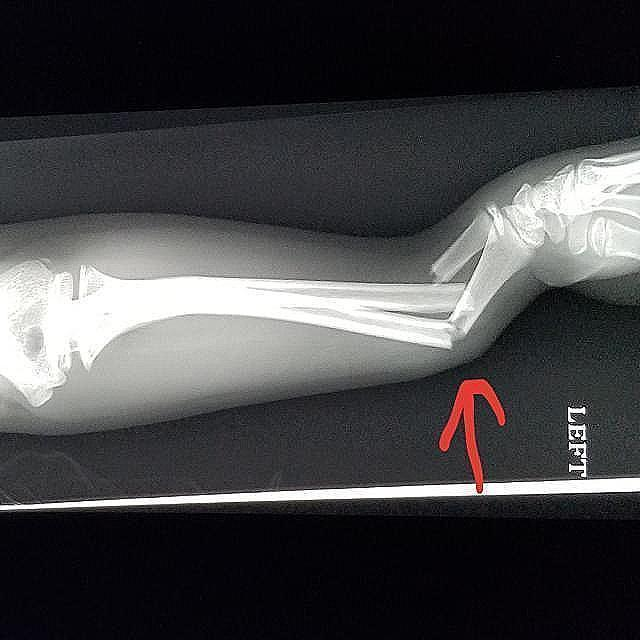bone: (406, 303, 488, 355), (404, 259, 472, 303)
